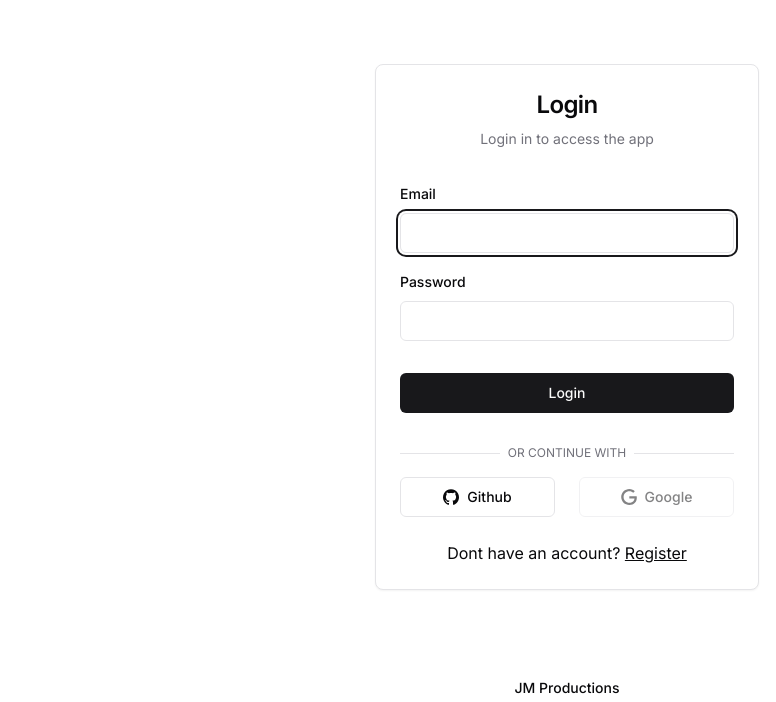
Test: Login form tests › Test with wrong credentials
Step 1. Type "test@test.com" into the field with test id "login-email" → {"x": 567, "y": 233}, box [400,213,734,253]
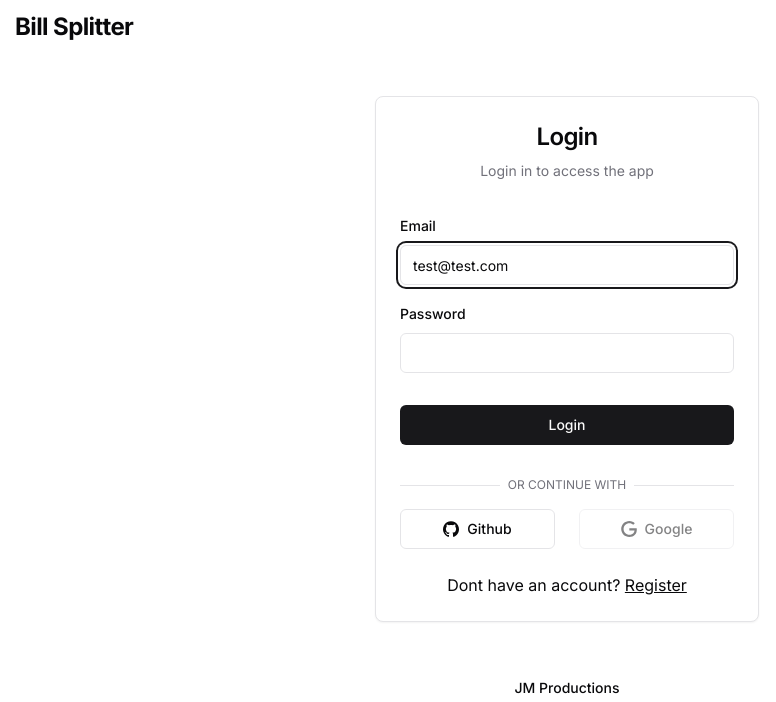
Step 2. Type "nottherightpassword" into the password field with test id "login-password" → {"x": 567, "y": 353}, box [400,333,734,373]
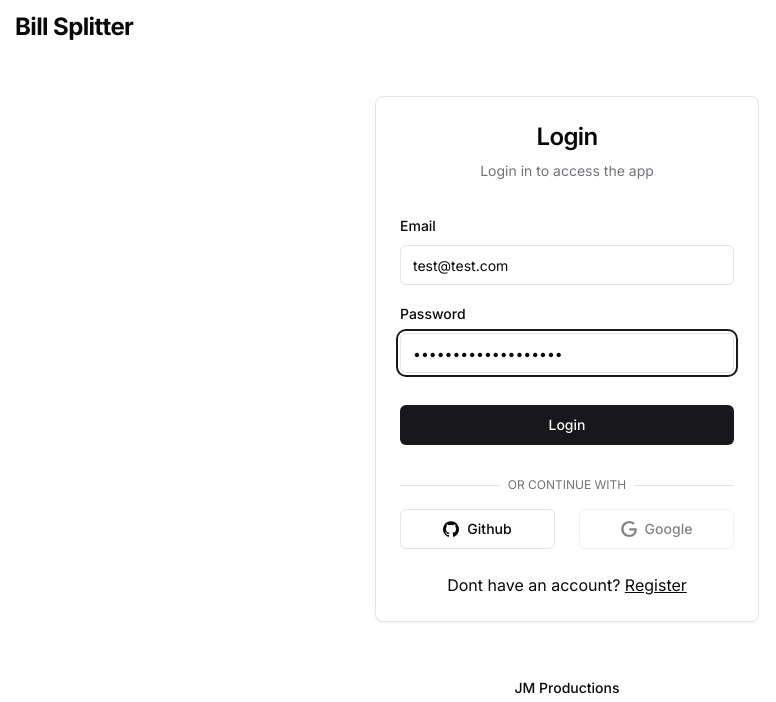
Step 3. Click the button with test id "login-submit" → {"x": 567, "y": 425}, box [400,405,734,445]
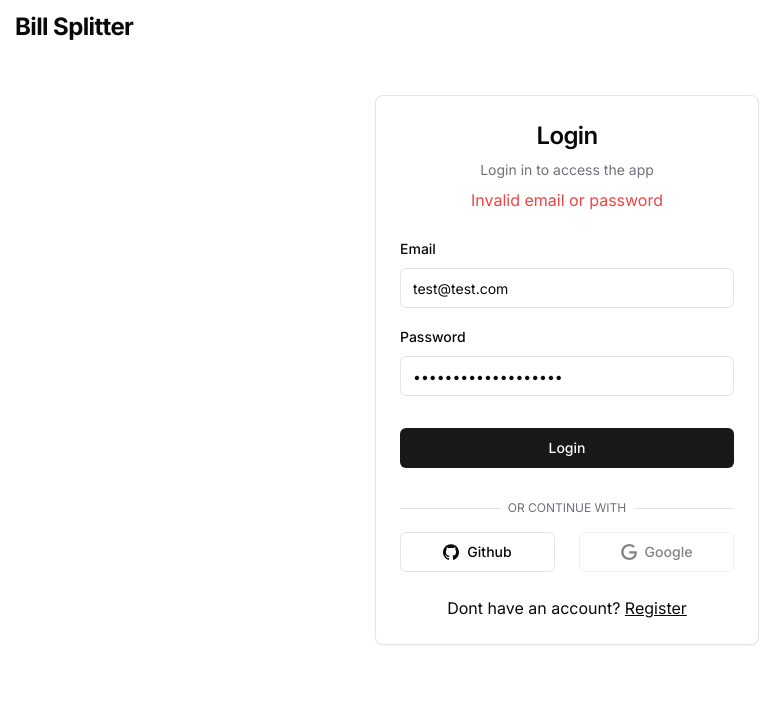
Now the text with test id "login-error" reads "Invalid email or password", box [471,190,663,210]
